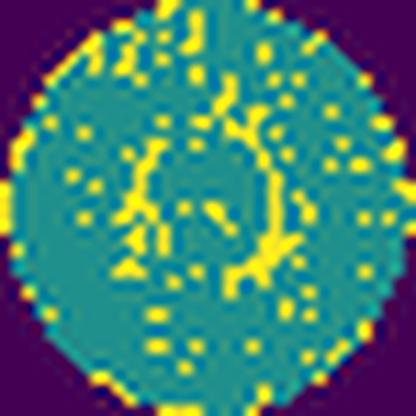Donut: (104, 77, 318, 300)
